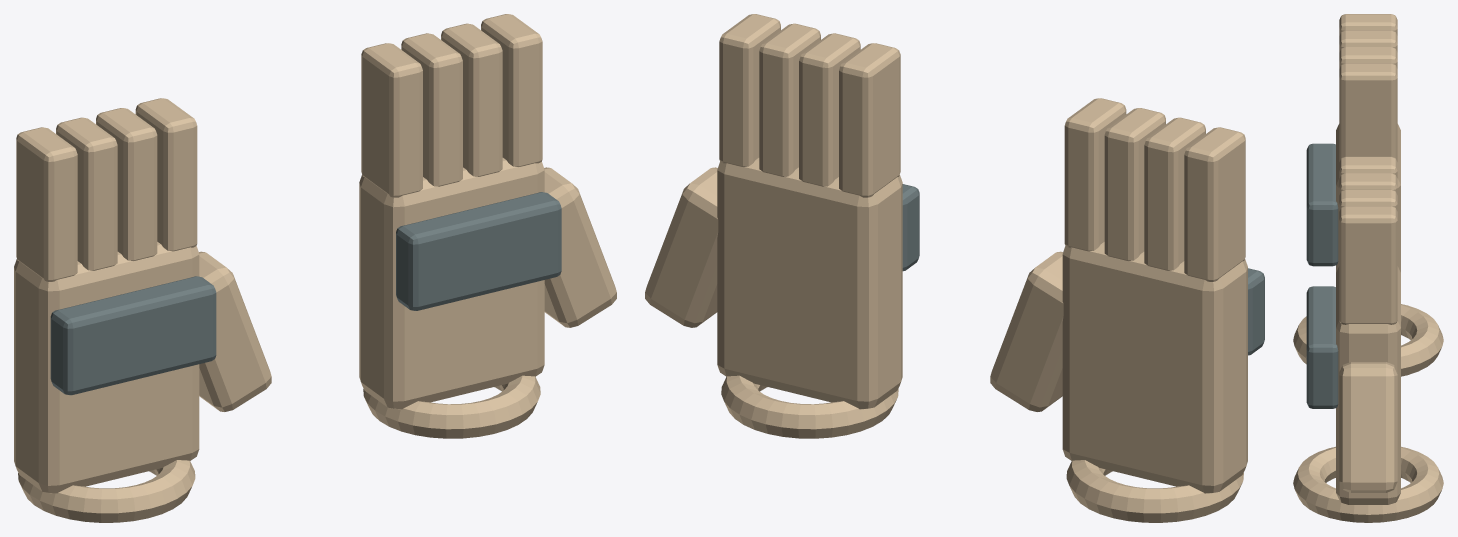
3 renders of one model, left to right at view 1: azimuth 30°, elevation 25°; view 2: azimuth 150°, elevation 25°; view 3: azimuth 270°, elevation 25°, orthographic. The views are drawn at different scales.
Parts seen in each view (by area): view 1: glove palm, glove palm.001, knuckle armor, knuckle armor.001, glove finger.004, glove finger, thumb.001, thumb, glove finger.003, glove finger.007, glove finger.001, glove finger.002 (+4 smaller); view 2: glove palm, glove palm.001, glove finger, glove finger.004, thumb.001, thumb, glove finger.003, glove finger.007, glove finger.001, glove finger.002, glove finger.005, glove finger.006 (+4 smaller); view 3: thumb.001, glove finger.007, open wrist.001, glove finger.003, glove palm.001, knuckle armor, knuckle armor.001, open wrist, glove finger.004, glove palm, glove finger.001, glove finger.006 (+3 smaller).
Boxes of the visible parts, bbox=[...] form: glove palm: bbox=[14, 242, 199, 493]; glove palm.001: bbox=[359, 158, 544, 409]; knuckle armor: bbox=[50, 276, 216, 395]; knuckle armor.001: bbox=[396, 192, 561, 310]; glove finger.004: bbox=[361, 43, 422, 197]; glove finger: bbox=[16, 127, 77, 281]; thumb.001: bbox=[544, 167, 616, 327]; thumb: bbox=[199, 251, 271, 411]; glove finger.003: bbox=[135, 98, 197, 251]; glove finger.007: bbox=[481, 14, 542, 166]; glove finger.001: bbox=[56, 117, 117, 270]; glove finger.002: bbox=[96, 108, 157, 260]; glove palm: bbox=[1062, 242, 1247, 493]; glove palm.001: bbox=[717, 158, 902, 409]; glove finger: bbox=[1184, 127, 1245, 281]; glove finger.004: bbox=[839, 43, 900, 197]; thumb.001: bbox=[645, 167, 718, 327]; thumb: bbox=[990, 251, 1063, 411]; glove finger.003: bbox=[1064, 98, 1126, 251]; glove finger.007: bbox=[719, 14, 780, 166]; glove finger.001: bbox=[1144, 117, 1205, 270]; glove finger.002: bbox=[1104, 108, 1165, 260]; glove finger.005: bbox=[799, 33, 860, 186]; glove finger.006: bbox=[759, 23, 820, 176]; thumb.001: bbox=[1339, 362, 1397, 492]; glove finger.007: bbox=[1339, 206, 1397, 324]; open wrist.001: bbox=[1293, 446, 1443, 522]; glove finger.003: bbox=[1339, 63, 1397, 161]; glove palm.001: bbox=[1336, 266, 1400, 504]; knuckle armor: bbox=[1306, 143, 1338, 266]; knuckle armor.001: bbox=[1306, 286, 1338, 408]; open wrist: bbox=[1293, 304, 1443, 376]; glove finger.004: bbox=[1339, 156, 1397, 178]; glove palm: bbox=[1336, 124, 1400, 272]; glove finger.001: bbox=[1339, 30, 1397, 52]; glove finger.006: bbox=[1339, 189, 1397, 211].
Bounding box in the file's own units: 0.4352 × 0.2645 × 0.116.
